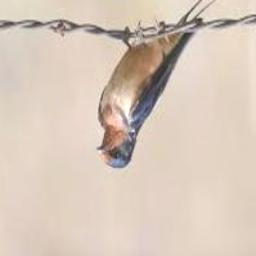Swallow: (95, 0, 223, 168)
